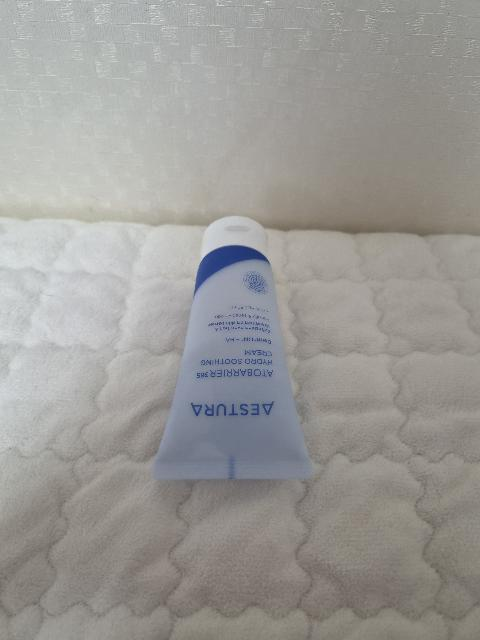handcream: (152, 216, 313, 480)
